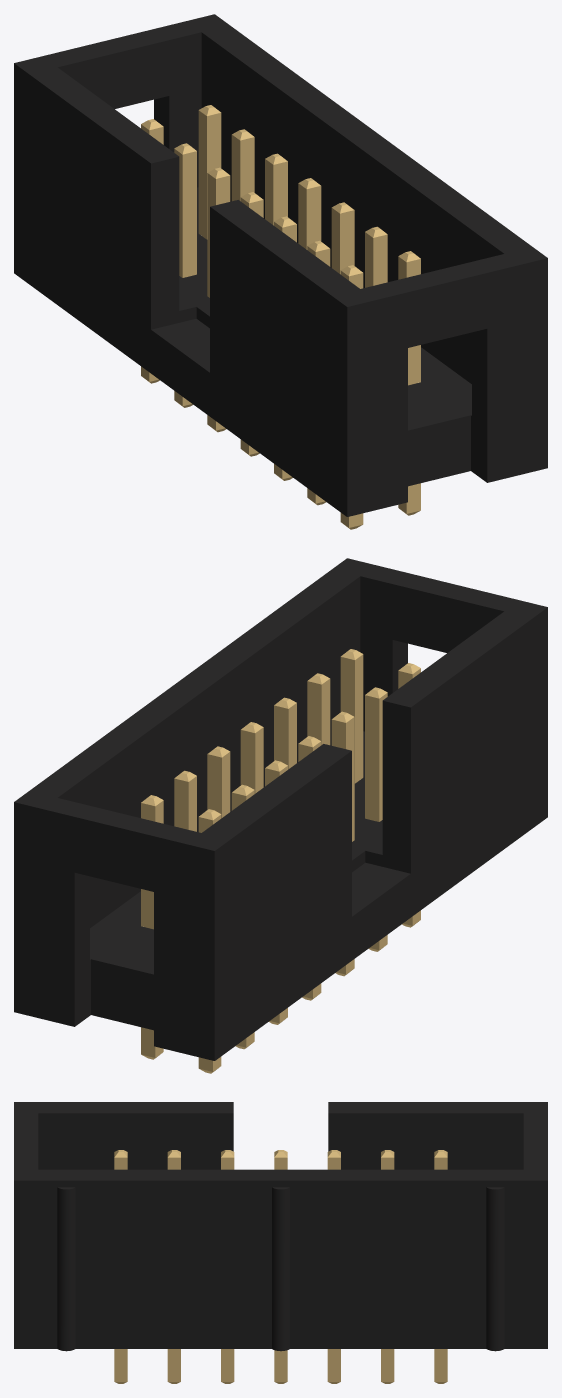
Rendered from kc-idc-header_2x07_p2.54mm_vertical.glb.
The picture shows the model from 3 angles, top to bottom: view 1: azimuth 30°, elevation 25°; view 2: azimuth 150°, elevation 25°; view 3: azimuth 270°, elevation 25°; orthographic projection. The views are drawn at different scales.
Parts seen in each view (by area): view 1: 0_0_0_0, 0.75_0.5_0.25_0.9; view 2: 0_0_0_0, 0.75_0.5_0.25_0.9; view 3: 0_0_0_0, 0.75_0.5_0.25_0.9.
Part boxes in pixels (x1,y1,x2,y2): 0_0_0_0: [14, 14, 547, 516]; 0.75_0.5_0.25_0.9: [141, 105, 420, 529]; 0_0_0_0: [14, 558, 547, 1060]; 0.75_0.5_0.25_0.9: [141, 649, 420, 1073]; 0_0_0_0: [14, 1102, 547, 1351]; 0.75_0.5_0.25_0.9: [114, 1150, 447, 1383].
Bounding box in the file's own units: 0.91 × 1.21 × 2.54.
